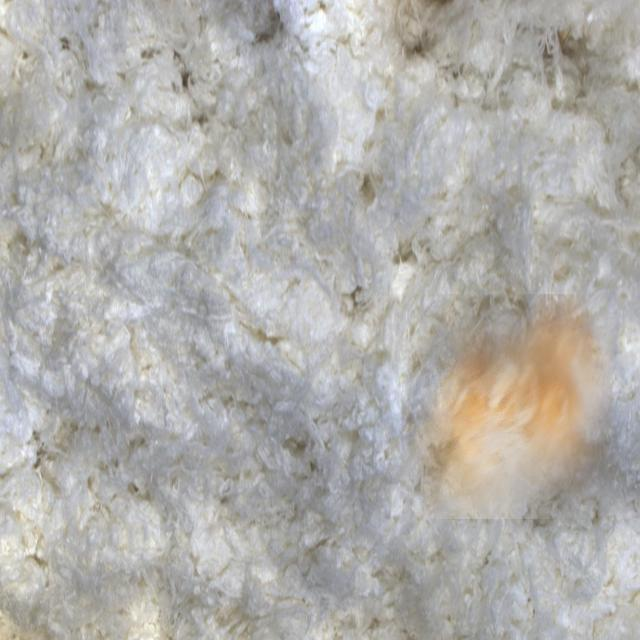dust: (402, 294, 612, 519)
